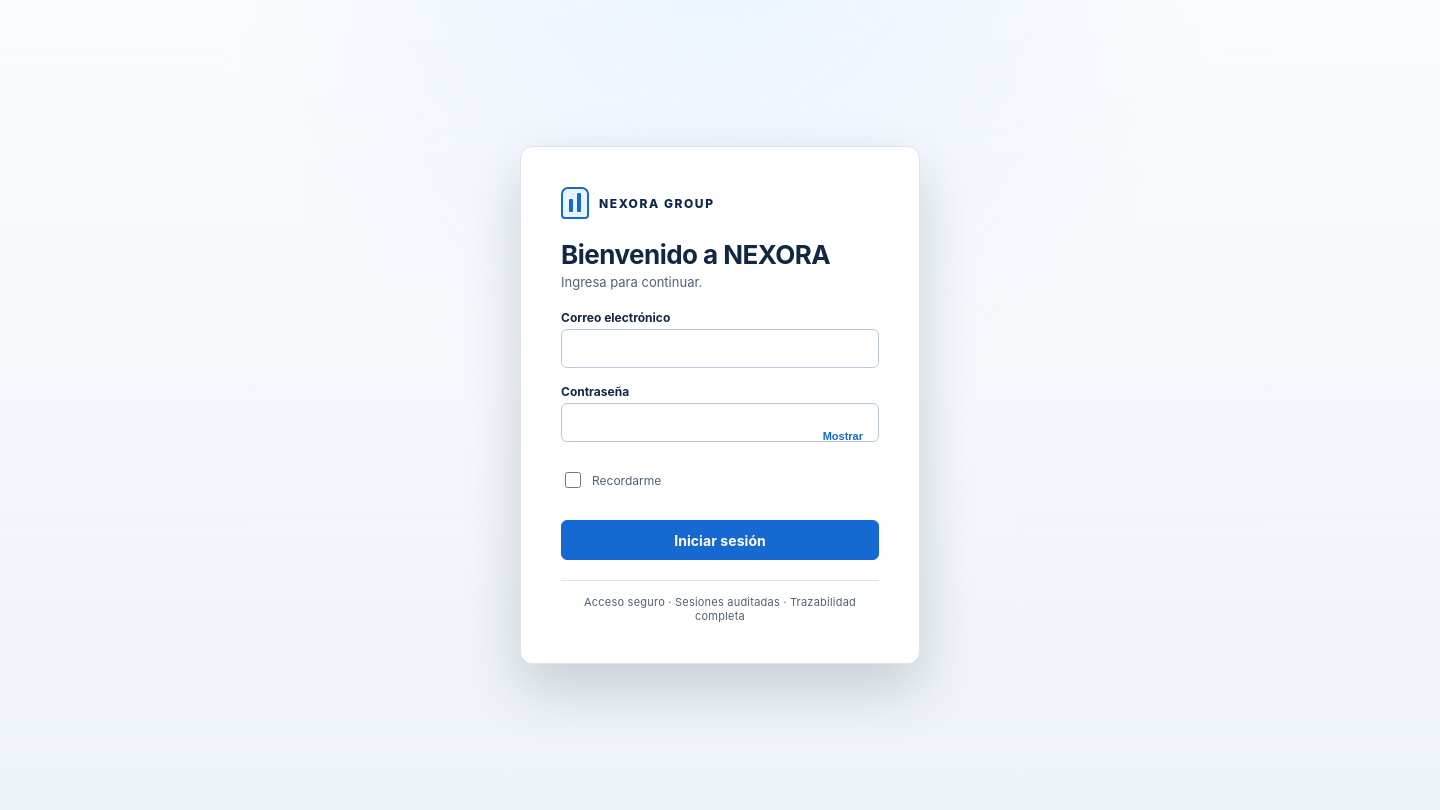
Scenario: LoginPage › shows a safe, human message on failed credentials (never a status code)
Expected: the heading "Bienvenido a NEXORA" is shown, [561,239,830,270]
Type "admin@nexora.group" into the field labelled "Correo electrónico".
click(720, 348); type("admin@nexora.group")  # box [561,329,879,368]
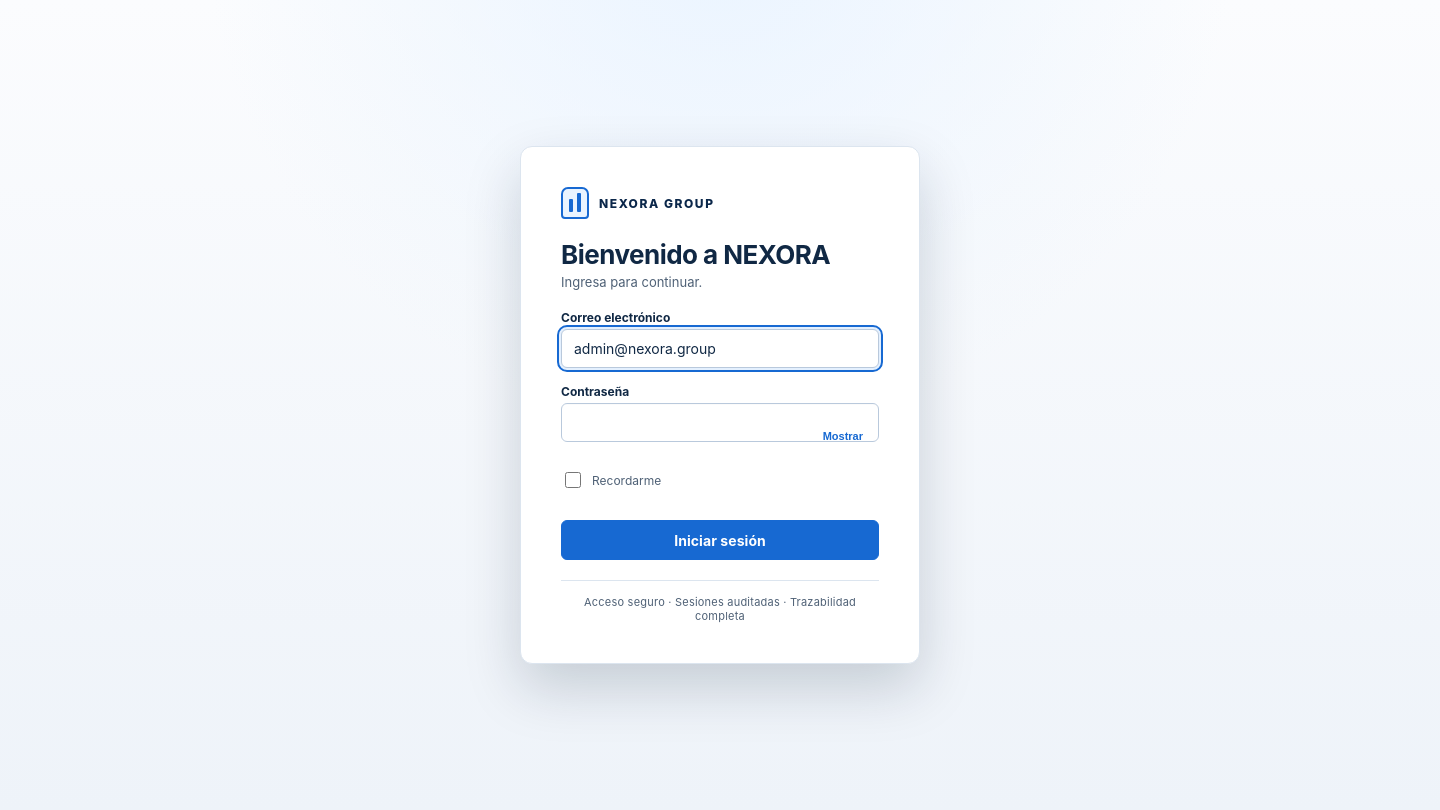
Type "wrong-pass" into the password field labelled "Contraseña".
click(720, 422); type("wrong-pass")  # box [561,403,879,442]
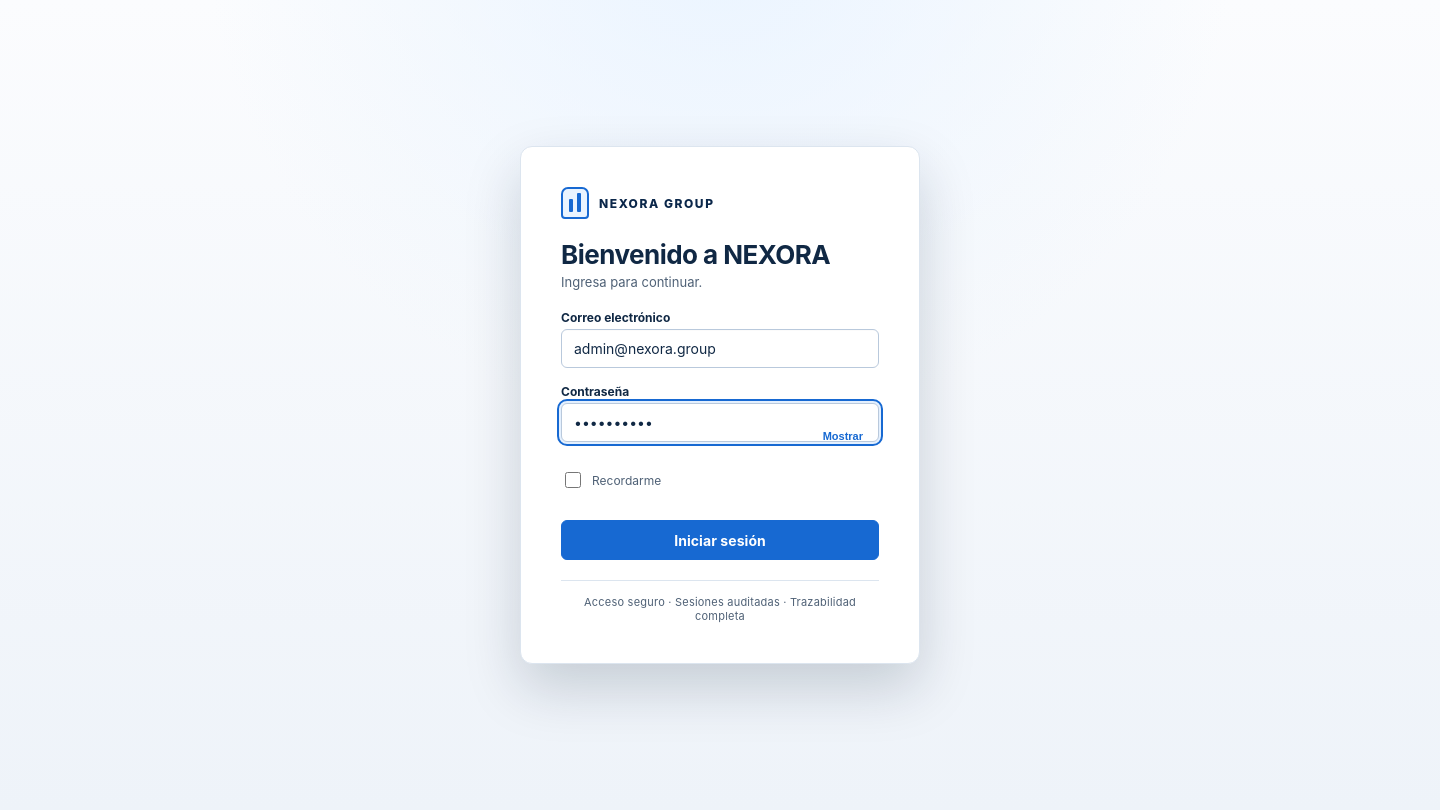
Click the button "Iniciar sesión".
click(720, 540)  # box [561,520,879,560]
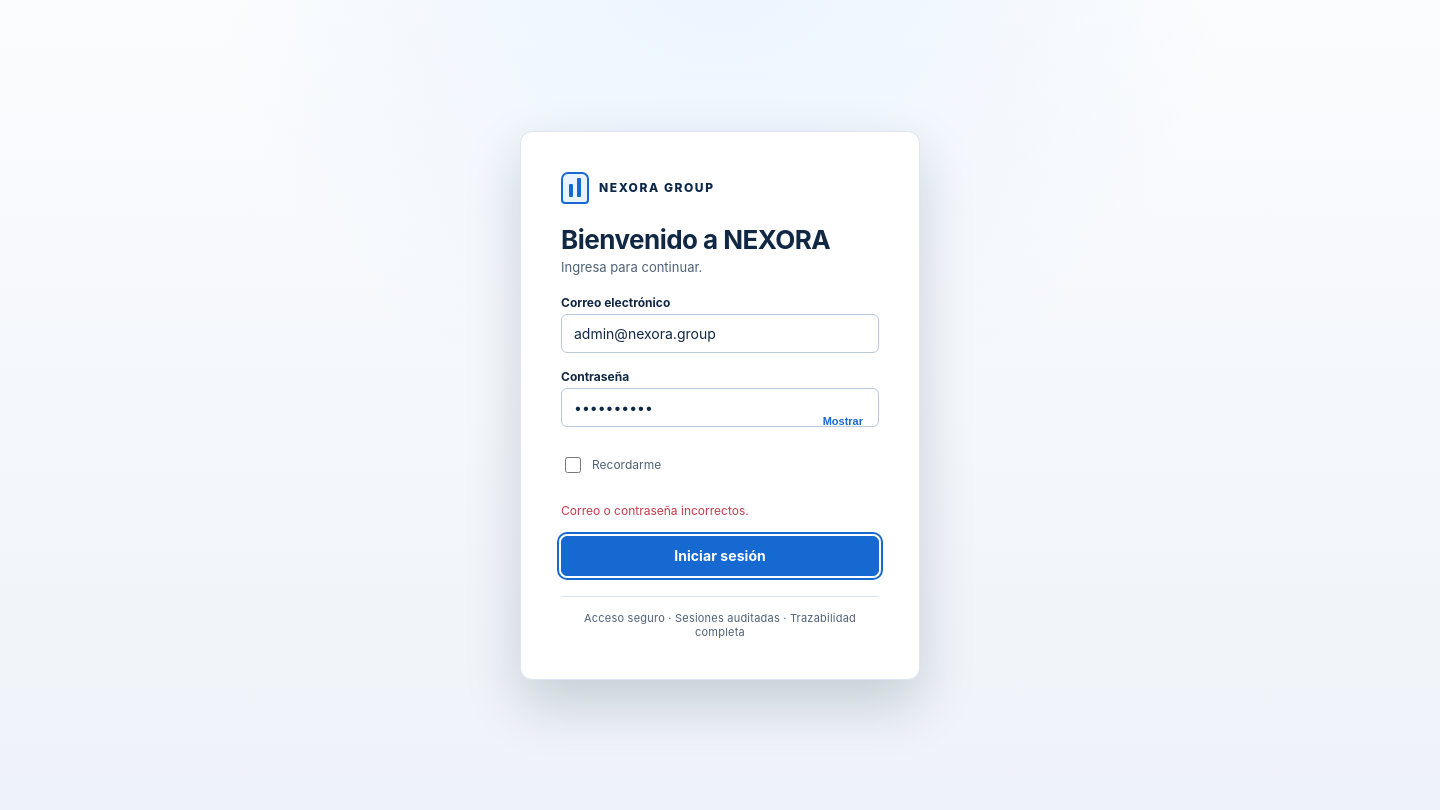
Result: the text "Correo o contraseña incorrectos." is shown at [561,502,749,518]
